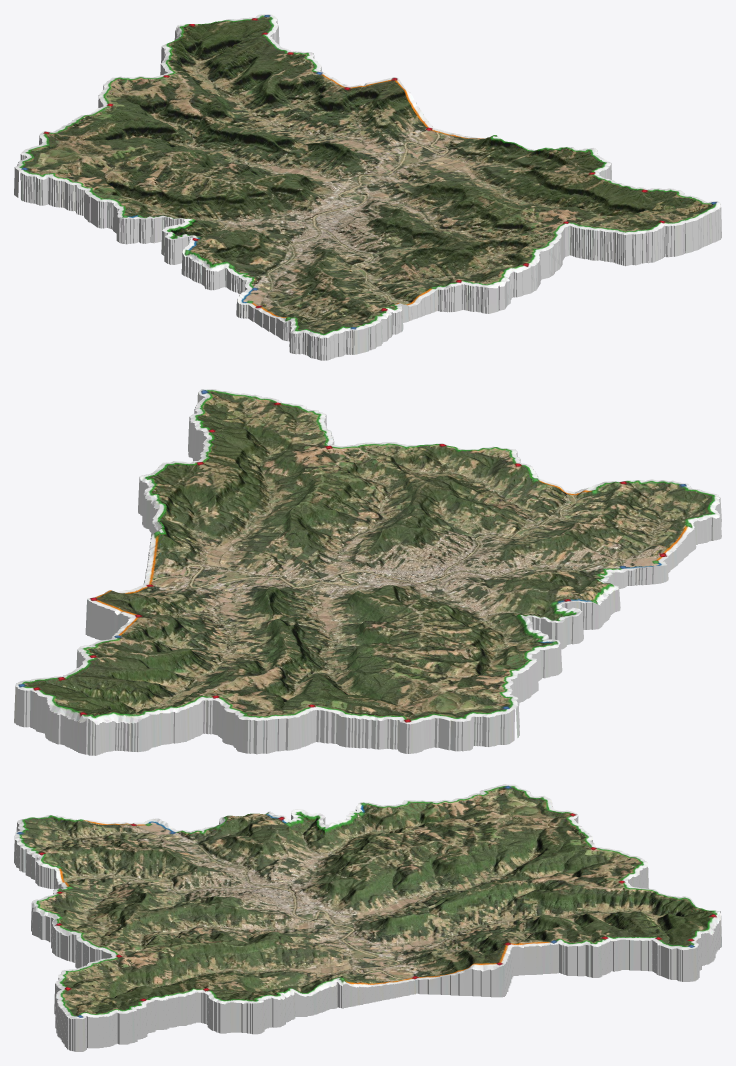
3 views of the same model, one above another, from view 1: azimuth 30°, elevation 25°; view 2: azimuth 150°, elevation 25°; view 3: azimuth 270°, elevation 25° (orthographic). The views are drawn at different scales.
Bounding box in the file's own units: 1 × 0.0649 × 1.24.
Materials: 1 (1 with a texture image).
